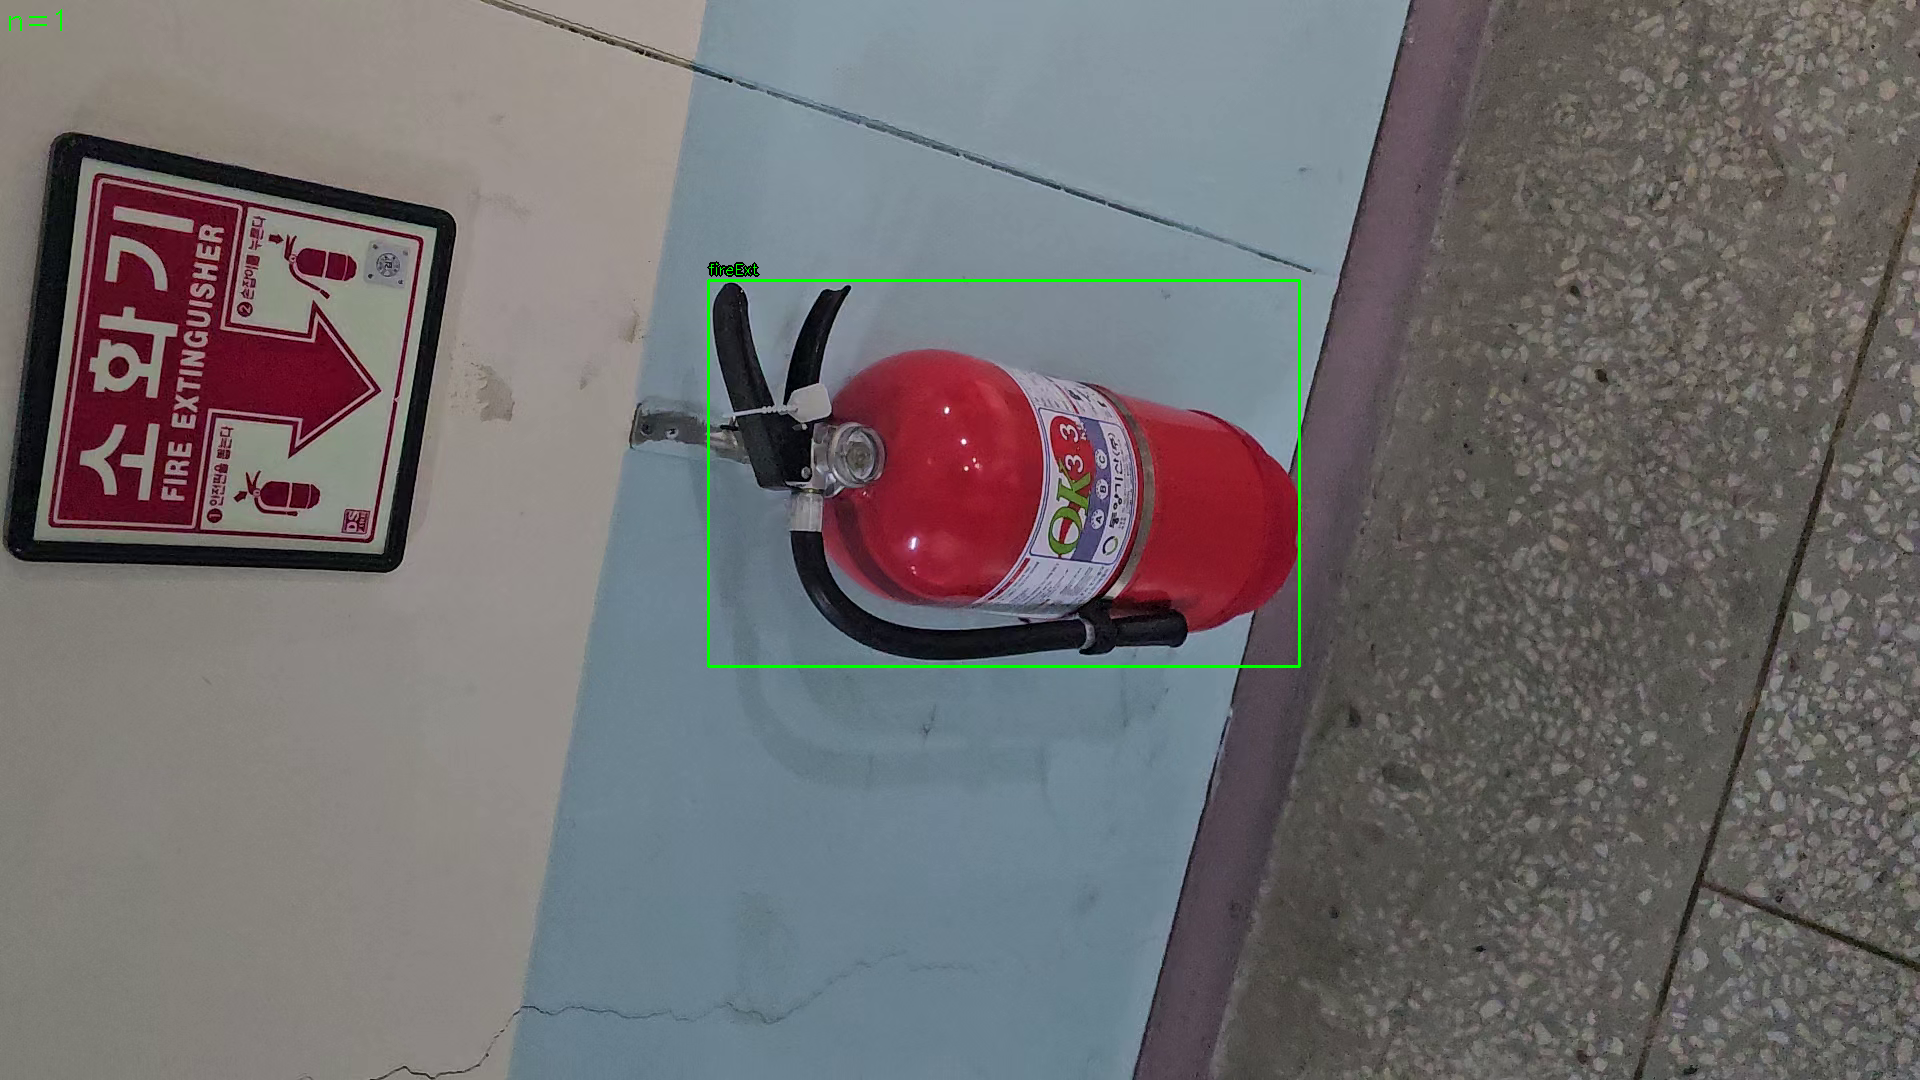lane: (708, 280, 1300, 667)
